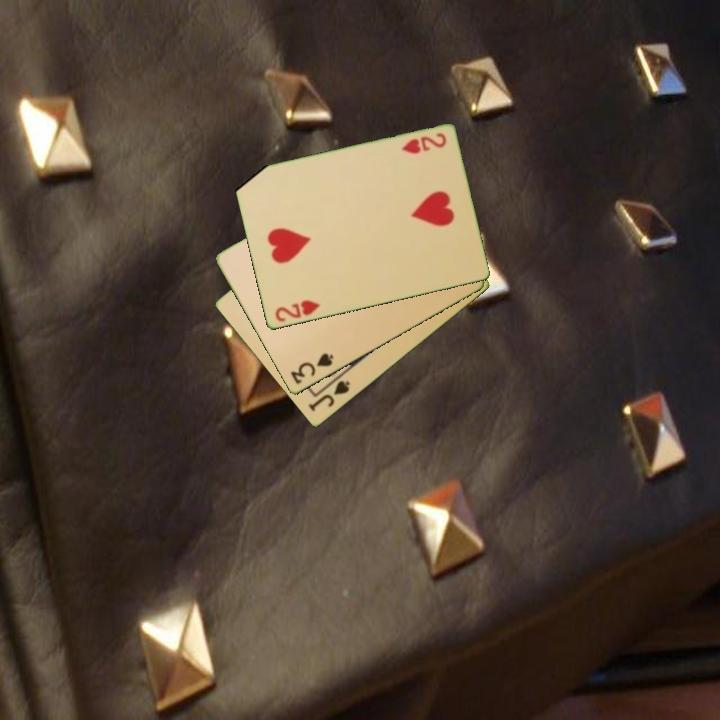2h: (271, 297, 323, 325), (398, 130, 449, 157)
3s: (287, 350, 336, 387)
Js: (305, 377, 353, 415)
